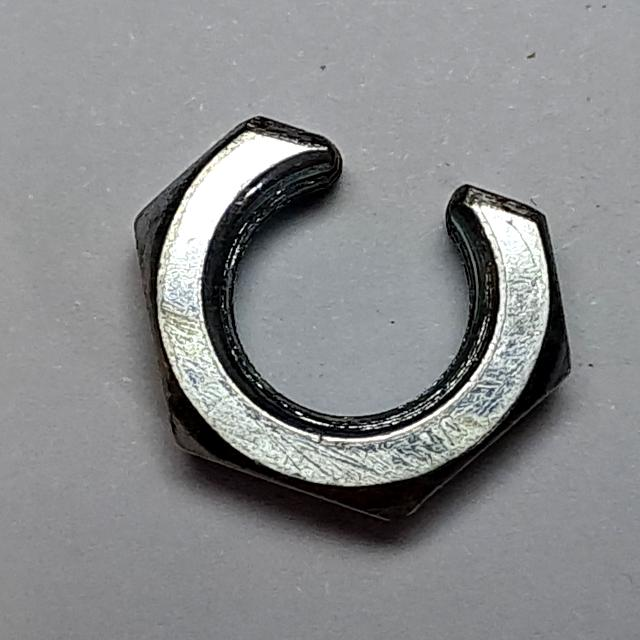Fracture: (119, 102, 586, 537)
